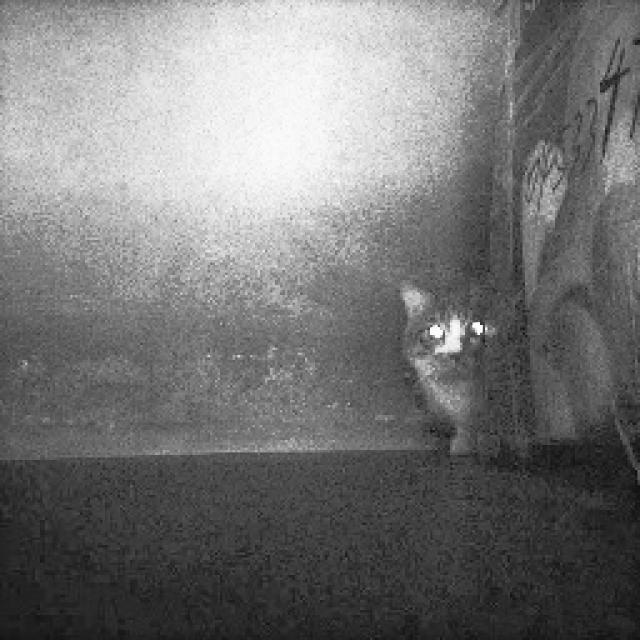cat: (350, 237, 555, 474)
